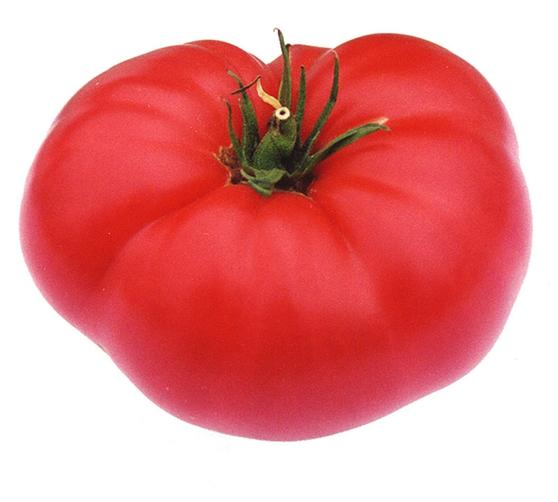tomato: (23, 33, 530, 438)
